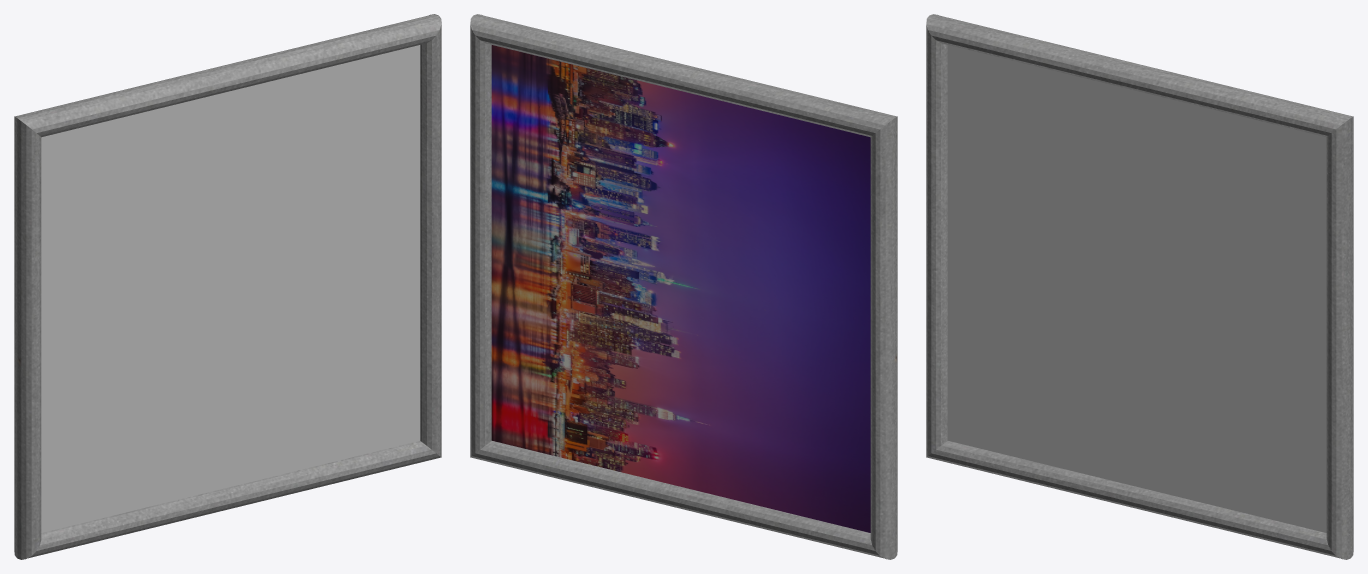
File: frame3.fbx
3 renders of one model, left to right at view 1: azimuth 30°, elevation 25°; view 2: azimuth 150°, elevation 25°; view 3: azimuth 330°, elevation 25°, orthographic.
Parts seen in each view (by area): view 1: Cube, Cylinder, Cylinder_002, Cylinder_001, Cylinder_003; view 2: Cube, Cylinder, Cylinder_002, Cylinder_001, Cylinder_003; view 3: Cube, Cylinder_001, Cylinder_002, Cylinder, Cylinder_003.
Boxes of the visible parts, x1,y1,x2,y2 form: Cube: (41,45,420,532); Cylinder: (14,116,41,559); Cylinder_002: (15,14,441,137); Cylinder_001: (420,14,441,457); Cylinder_003: (28,441,440,558); Cube: (491,45,870,532); Cylinder: (870,116,897,559); Cylinder_002: (470,14,896,137); Cylinder_001: (470,14,491,457); Cylinder_003: (471,441,883,558); Cube: (947,45,1326,532); Cylinder_001: (1326,116,1353,559); Cylinder_002: (926,14,1352,137); Cylinder: (926,14,947,457); Cylinder_003: (927,441,1339,558).
Size of the model in its own units: 0.2845 by 0.2841 by 0.02.
